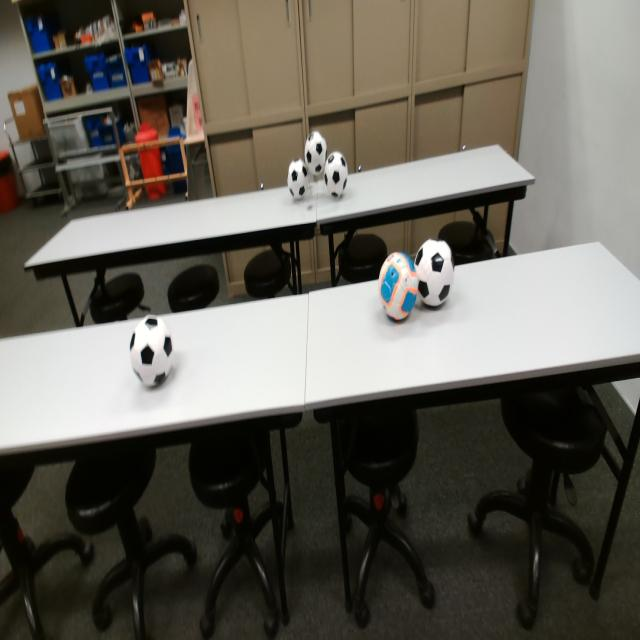ball: (129, 315, 174, 390), (379, 250, 419, 322), (379, 250, 419, 322), (418, 239, 456, 308), (325, 151, 348, 200), (304, 130, 328, 174), (288, 160, 307, 201)
